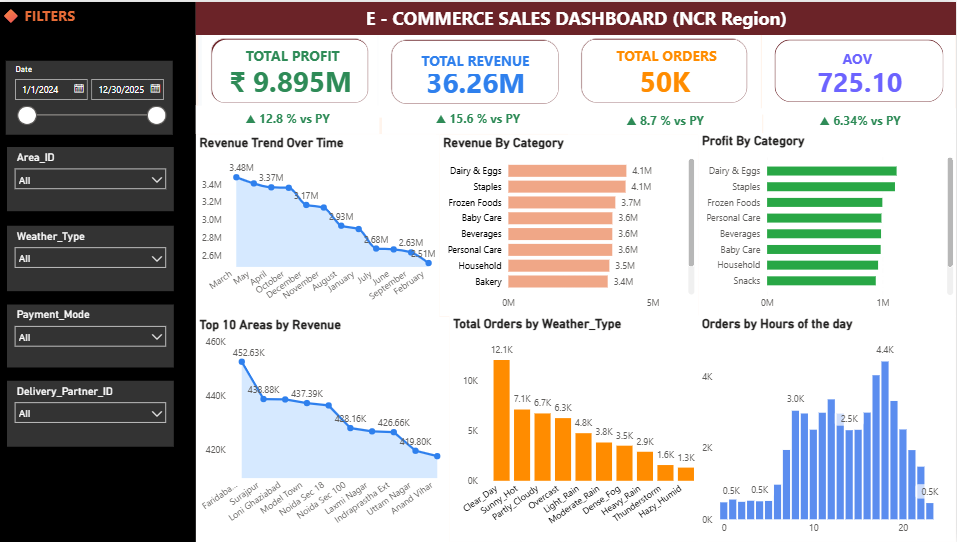

The dashboard page shown, as its layout file describes it:
{"tool":"powerbi","page":{"name":"Overview","canvas":[1280,720],"ordinal":0},"visuals":[{"type":"cardVisual","title":"Tota","fields":{"Data":["Fact_Sales.Total Profit"]},"box":[267.8,31.4,244.9,120.6],"z":0},{"type":"cardVisual","fields":{"Data":["Fact_Sales.Total Revenue"]},"box":[509.1,33.8,258.2,120.6],"z":1000},{"type":"cardVisual","fields":{"Data":["Fact_Sales.Total Orders"]},"box":[762.5,31.4,257,120.6],"z":2000},{"type":"cardVisual","title":"AOV","fields":{"Data":["Fact_Sales.AOV"]},"box":[1020.6,33.8,259.4,117],"z":3000},{"type":"stackedAreaChart","title":"Revenue Trend Over Time","fields":{"Y":["Fact_Sales.TOTAL REVENUE"],"Category":["Dim_Calendar.Month"]},"box":[265,176.2,325,243.8],"z":4000},{"type":"clusteredBarChart","title":"Revenue By Category","fields":{"Y":["Fact_Sales.TOTAL REVENUE"],"Category":["Dim_Product.Category"]},"box":[590,176.2,345,242.5],"z":5000},{"type":"clusteredBarChart","title":"Profit By Category","fields":{"Category":["Dim_Product.Category"],"Y":["Fact_Sales.TOTAL PROFIT"]},"box":[935,174.9,345,244.9],"z":6000},{"type":"stackedAreaChart","title":"Top 10 Areas by Revenue","fields":{"Category":["Dim_Area.Area_Name"],"Y":["Fact_Sales.TOTAL REVENUE"]},"box":[265,420,338.8,300],"z":7000},{"type":"clusteredColumnChart","title":"Total Orders by Weather_Type","fields":{"Category":["Dim_Weather.Weather_Type"],"Y":["Fact_Sales.TOTAL ORDERS"]},"box":[603.8,418.8,342.5,301.2],"z":8000},{"type":"lineClusteredColumnComboChart","title":"Orders by Hours of the day","fields":{"Y":["Fact_Sales.TOTAL ORDERS"],"Category":["Fact_Sales.Order_Hour"]},"box":[935,418.6,345,301.6],"z":9000},{"type":"textbox","box":[0,0,265,720],"z":10000},{"type":"slicer","fields":{"Values":["Dim_Calendar.Date"]},"box":[12.3,78.2,222.3,97.4],"z":11000},{"type":"slicer","fields":{"Values":["Dim_Area.Area_ID"]},"box":[12.8,193.9,222.4,85.5],"z":12000},{"type":"slicer","fields":{"Values":["Dim_Weather.Weather_Type"]},"box":[12.8,297.9,222.4,86.9],"z":13000},{"type":"slicer","fields":{"Values":["Fact_Sales.Payment_Mode"]},"box":[12.8,403.4,222.4,84.1],"z":14000},{"type":"slicer","fields":{"Values":["Fact_Sales.Delivery_Partner_ID"]},"box":[12.8,504.6,222.4,88.4],"z":15000},{"type":"textbox","box":[1021.9,141.2,258.2,33.8],"z":16000},{"type":"textbox","box":[264.2,138.7,244.9,37.4],"z":17000},{"type":"textbox","box":[762.5,141.2,258.2,35],"z":18000},{"type":"textbox","box":[512.7,138.7,255.8,37.4],"z":19000},{"type":"textbox","box":[322.1,53.1,152,38.6],"z":20000},{"type":"textbox","box":[544.1,60.3,189.4,36.2],"z":21000},{"type":"textbox","box":[805.9,53.1,172.5,36.2],"z":22000},{"type":"textbox","box":[1058,57.9,177.3,36.2],"z":23000},{"type":"textbox","box":[265,0,1015,43.8],"z":24000}]}

Visuals, with their boxes in screenshot pixels (x1, y1, x2, y2), scaled from the page's 1280x720 canvas onto the 957x542 screenshot:
"Tota" cardVisual: 200, 24, 383, 114
cardVisual - Fact_Sales.Total Revenue: 381, 25, 574, 116
cardVisual - Fact_Sales.Total Orders: 570, 24, 762, 114
"AOV" cardVisual: 763, 25, 956, 114
"Revenue Trend Over Time" stackedAreaChart: 198, 133, 441, 316
"Revenue By Category" clusteredBarChart: 441, 133, 699, 315
"Profit By Category" clusteredBarChart: 699, 132, 956, 316
"Top 10 Areas by Revenue" stackedAreaChart: 198, 316, 451, 541
"Total Orders by Weather_Type" clusteredColumnChart: 451, 315, 708, 541
"Orders by Hours of the day" lineClusteredColumnComboChart: 699, 315, 956, 541
textbox: 0, 0, 198, 541
slicer - Dim_Calendar.Date: 9, 59, 175, 132
slicer - Dim_Area.Area_ID: 10, 146, 176, 210
slicer - Dim_Weather.Weather_Type: 10, 224, 176, 290
slicer - Fact_Sales.Payment_Mode: 10, 304, 176, 367
slicer - Fact_Sales.Delivery_Partner_ID: 10, 380, 176, 446
textbox: 764, 106, 956, 132
textbox: 198, 104, 381, 133
textbox: 570, 106, 763, 133
textbox: 383, 104, 575, 133
textbox: 241, 40, 354, 69
textbox: 407, 45, 548, 73
textbox: 603, 40, 732, 67
textbox: 791, 44, 924, 71
textbox: 198, 0, 956, 33
